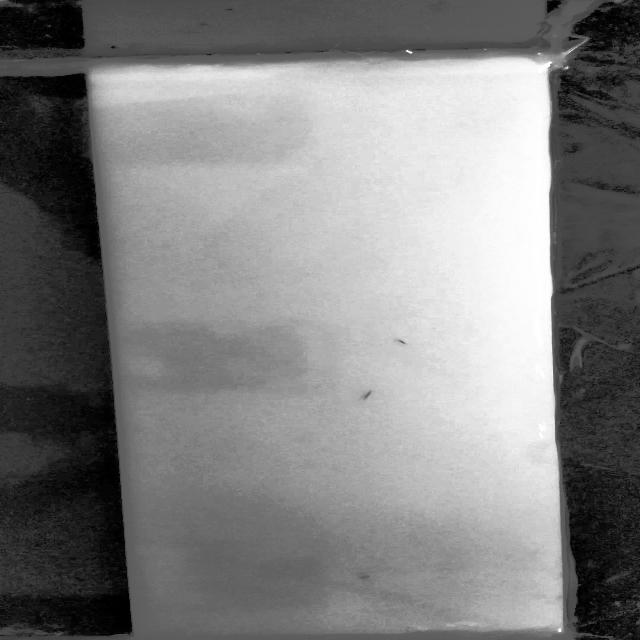shrimp: (355, 389, 379, 403), (393, 334, 414, 348), (354, 570, 382, 580)
